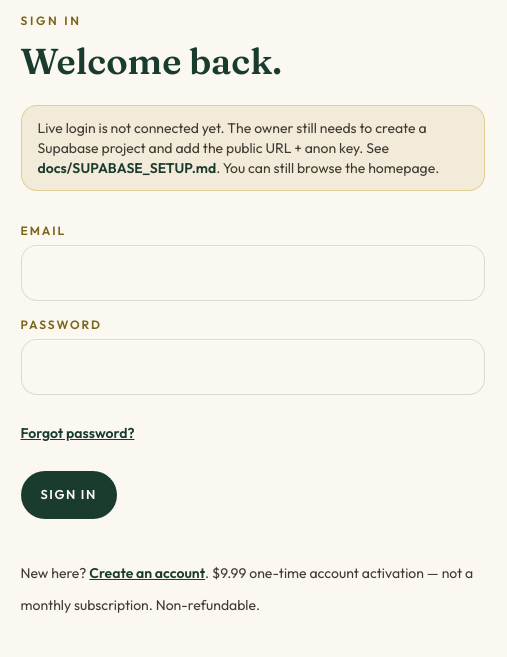
Scenario: sign in › shows a wrong password error
In the field labelled "Email": [252, 273] box top-left (20, 245), bottom-right (484, 301), type "pat@example.com"
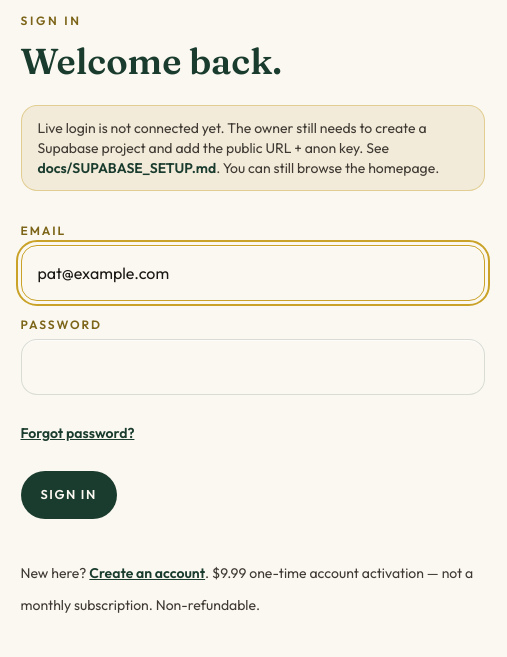
In the password field labelled "Password": [252, 367] box top-left (20, 339), bottom-right (484, 395), type "password12"
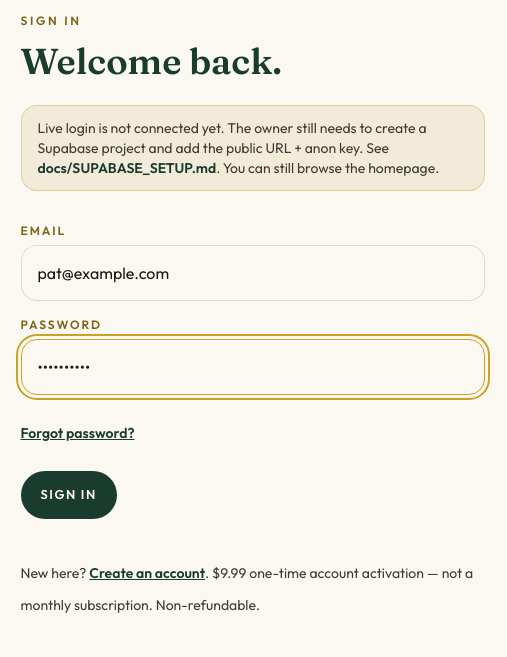
Click the button "Sign in": [69, 495] box top-left (20, 471), bottom-right (117, 519)
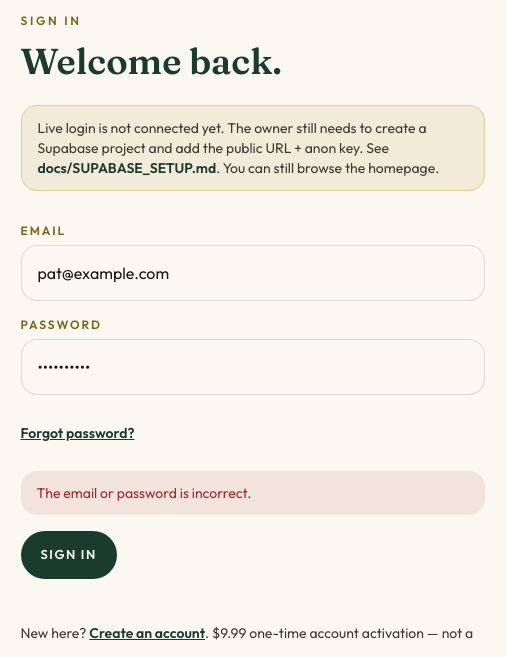
Check: the message "The email or password is incorrect." is shown, box top-left (20, 471), bottom-right (484, 515)
